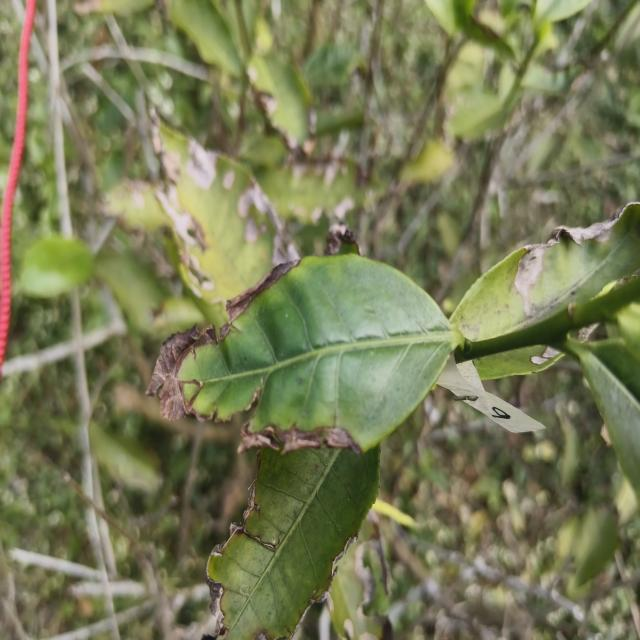Leaf: (148, 254, 461, 450), (207, 448, 379, 640), (152, 122, 299, 327), (450, 203, 640, 341), (565, 339, 640, 500), (255, 160, 375, 224), (167, 0, 243, 76), (248, 54, 310, 147), (89, 423, 162, 492), (20, 236, 93, 297), (574, 508, 618, 587), (303, 43, 363, 89), (449, 92, 507, 139), (476, 349, 552, 379)
